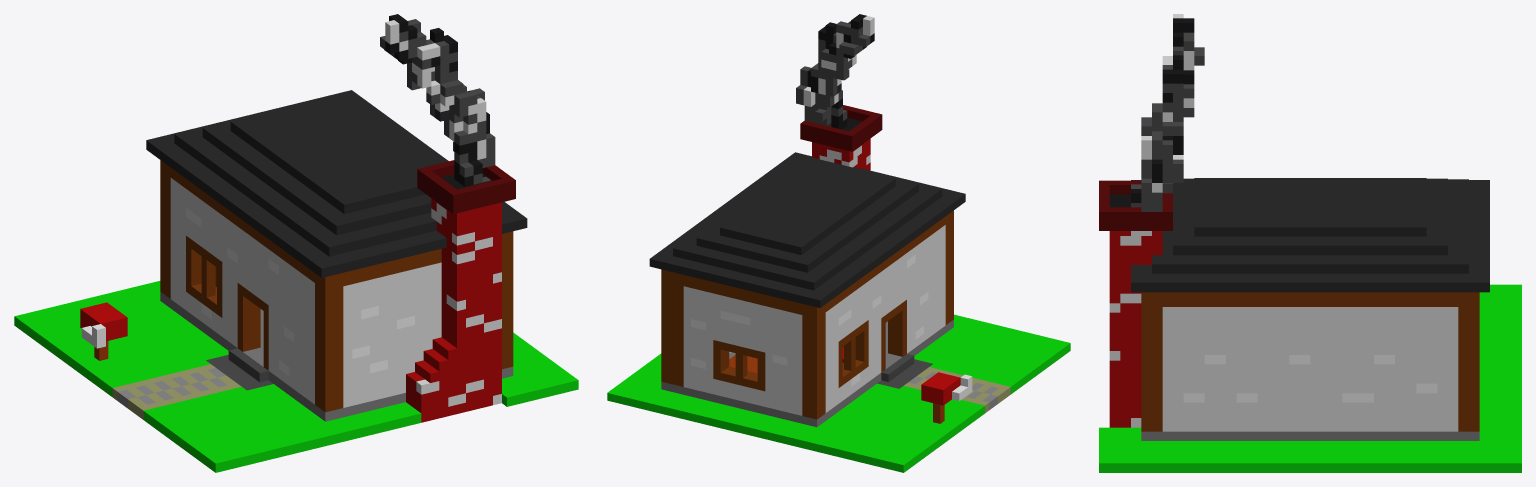
Rendered from smale house.obj.
3 views of the same model, side by side, from view 1: azimuth 30°, elevation 25°; view 2: azimuth 150°, elevation 25°; view 3: azimuth 270°, elevation 25° (orthographic). The views are drawn at different scales.
Bounding box in the file's own units: 4 × 4 × 4.
1 material, 1 textured.
